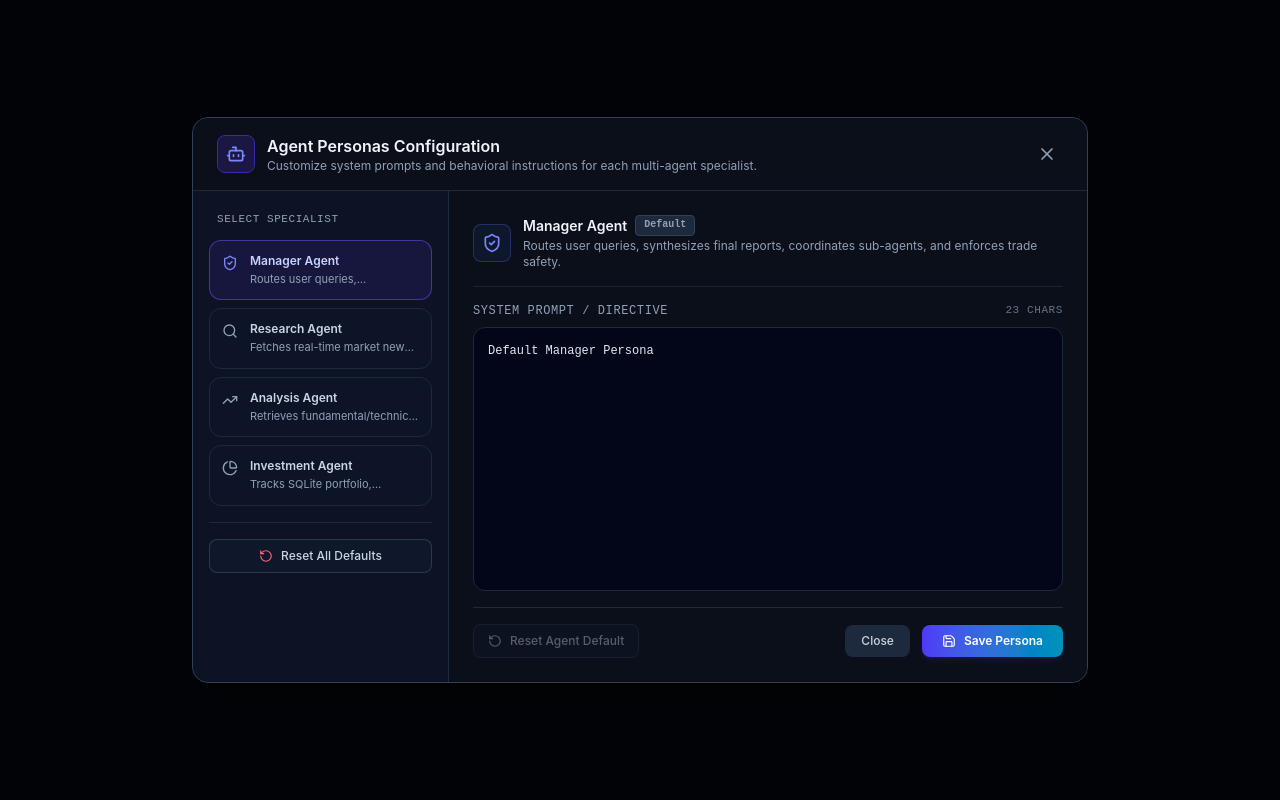
it: PersonaModal Component › allows switching specialist tabs
expect the text box showing "Default Manager Persona" is shown: met, box [473,327,1063,591]
Click the button "Research Agent" at (320, 339), box [209,308,432,369]
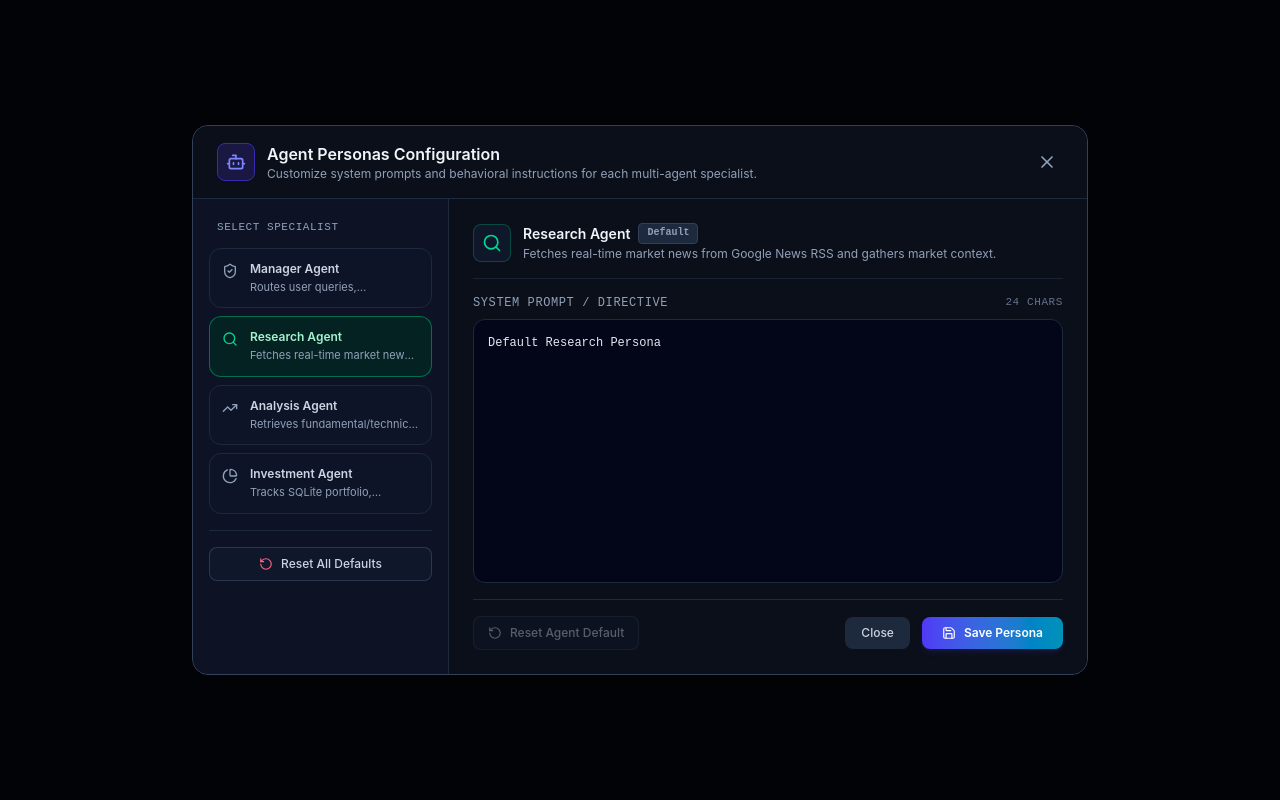
expect the text box showing "Default Research Persona" is shown: met, box [473,319,1063,583]
